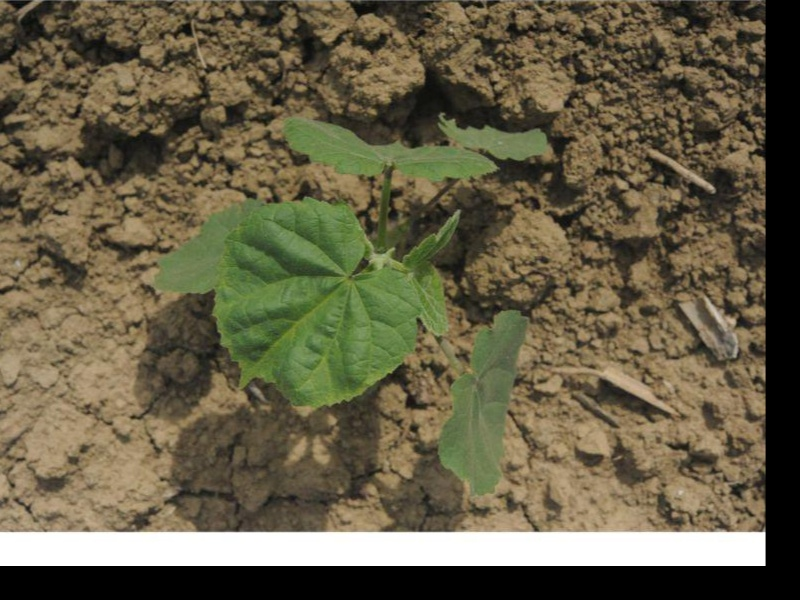velvet: (154, 117, 549, 498)
